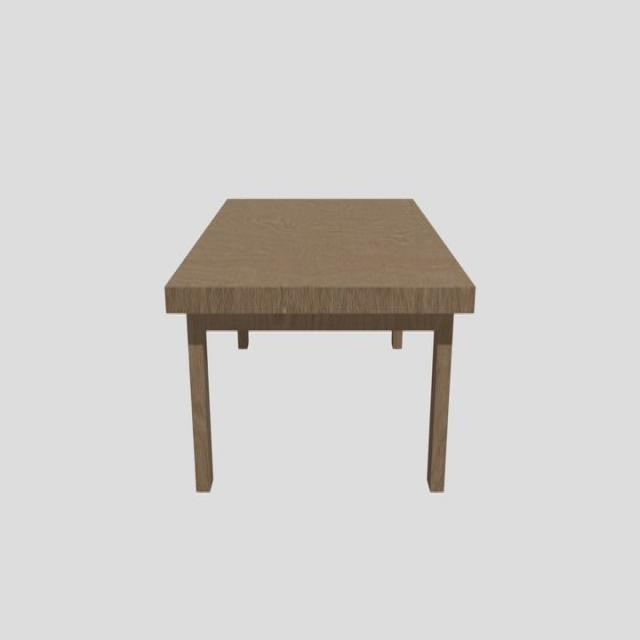table: (164, 198, 476, 495)
